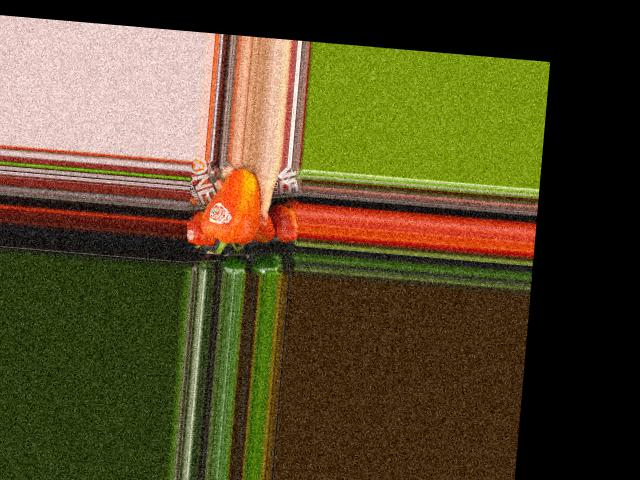bell_pepper: (196, 166, 270, 259)
